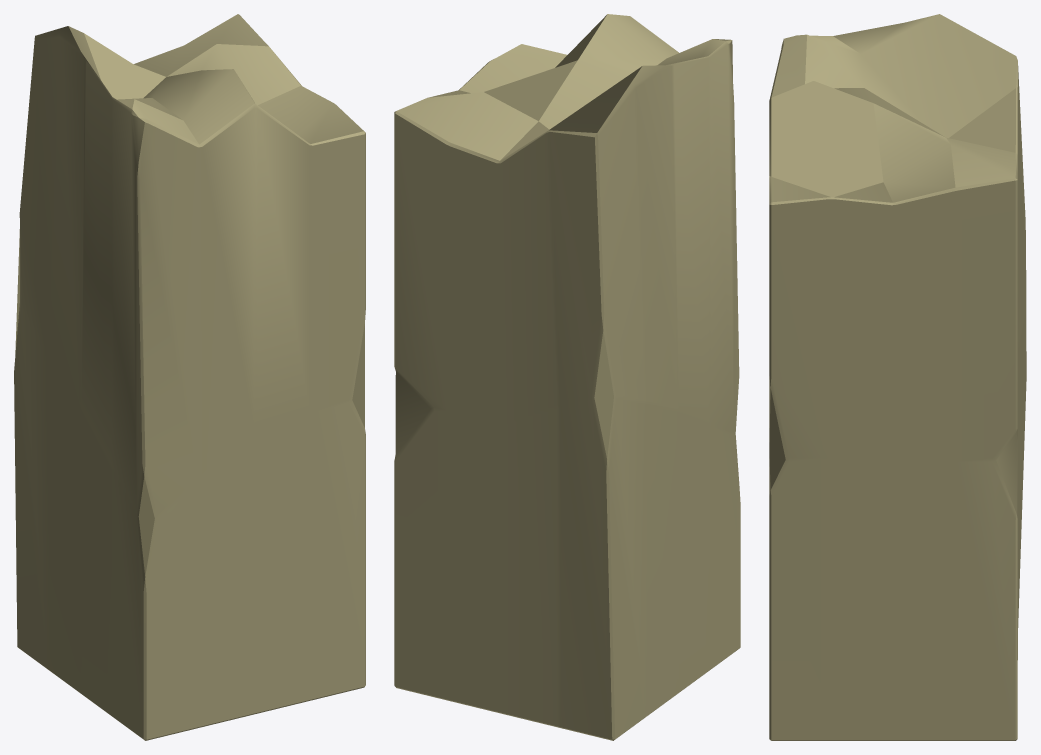
The model's file is pillar_broken_bottom.fbx.
3 renders of one model, left to right at view 1: azimuth 30°, elevation 25°; view 2: azimuth 150°, elevation 25°; view 3: azimuth 270°, elevation 25°, orthographic. The views are drawn at different scales.
Parts seen in each view (by area): view 1: Pillar_Broken_Bottom; view 2: Pillar_Broken_Bottom; view 3: Pillar_Broken_Bottom.
Boxes of the visible parts, box(x1,y1,x2,y2) form: Pillar_Broken_Bottom: box(14, 14, 365, 740); Pillar_Broken_Bottom: box(394, 14, 740, 740); Pillar_Broken_Bottom: box(769, 14, 1026, 740).
Size of the model in its own units: 115 by 321 by 119.
